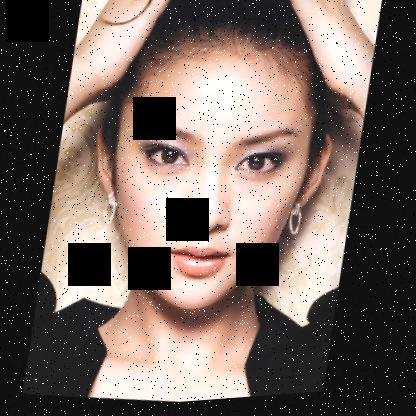Female: (74, 16, 348, 330)
